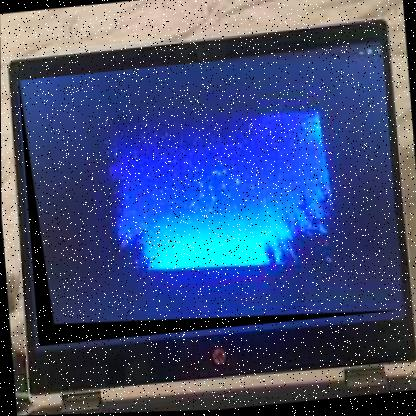fade: (17, 47, 403, 349)
